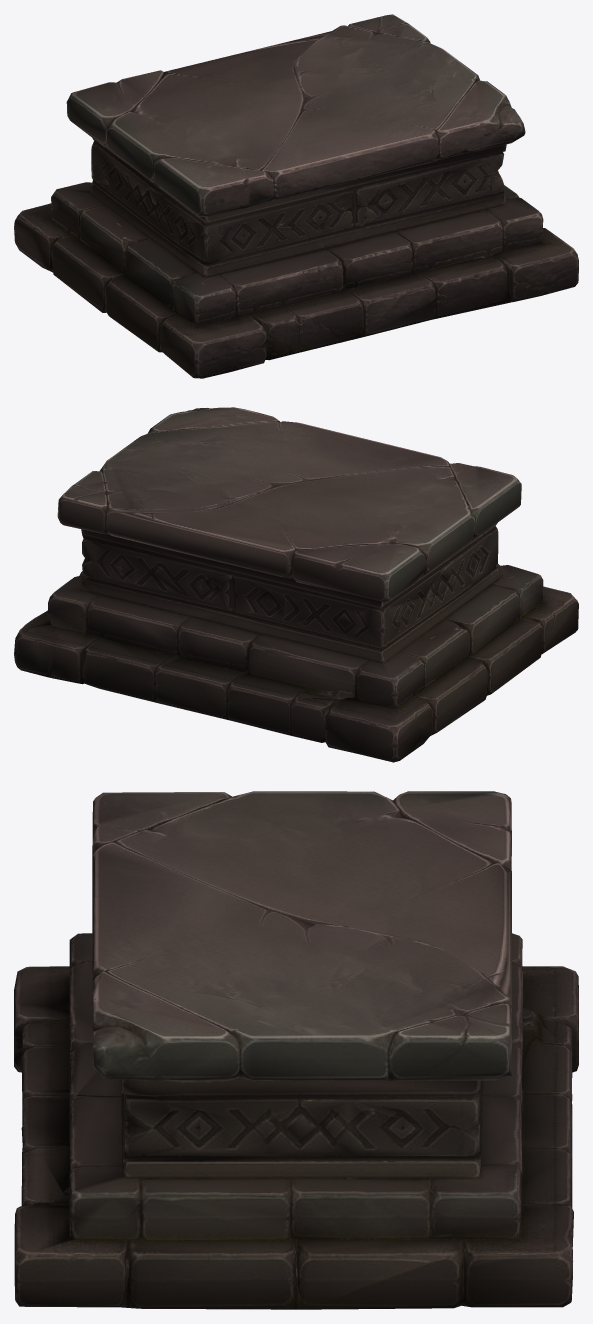
File: dg_altar.glb
3 views of the same model, one above another, from view 1: azimuth 30°, elevation 25°; view 2: azimuth 150°, elevation 25°; view 3: azimuth 270°, elevation 25° (orthographic). The views are drawn at different scales.
Visible parts, largest first — view 1: COL_DGP_ALTAR; view 2: COL_DGP_ALTAR; view 3: COL_DGP_ALTAR.
Boxes of the visible parts, x1=… form: COL_DGP_ALTAR: x1=14, y1=14, x2=578, y2=378; COL_DGP_ALTAR: x1=14, y1=407, x2=578, y2=762; COL_DGP_ALTAR: x1=14, y1=791, x2=578, y2=1309.
Size of the model in its own units: 1.55 by 0.6318 by 1.27.
1 material, 1 textured.
